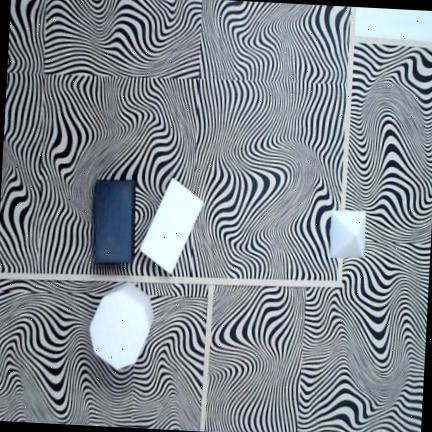Paralelepipedo: (139, 177, 203, 274), (95, 180, 136, 263)
Piramide: (330, 210, 365, 258)
Prisma_hexagonal: (89, 282, 152, 369)
